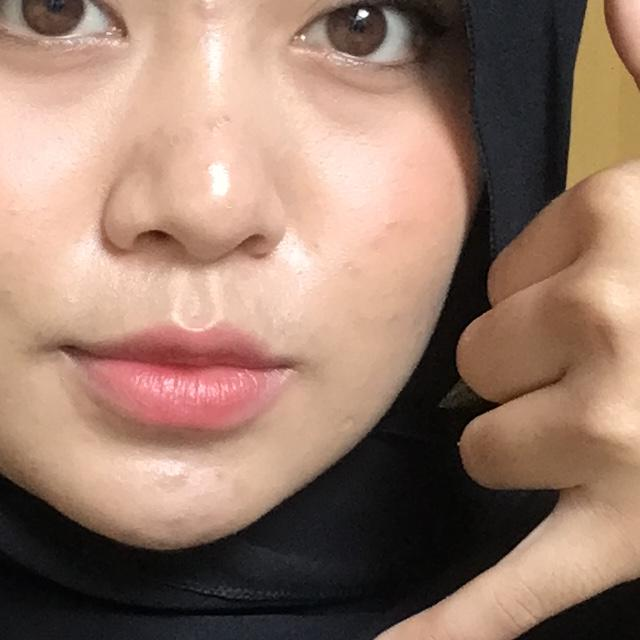telpon: (310, 0, 640, 640)
